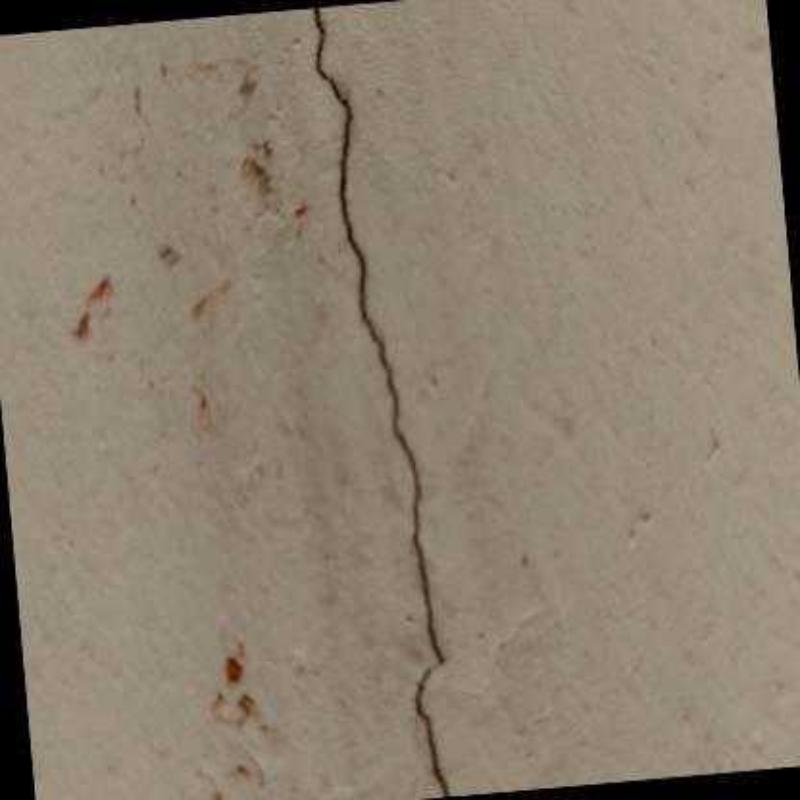pothole: (313, 6, 449, 797)
